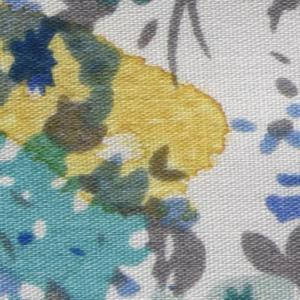Oil Stain: (1, 2, 233, 227)
